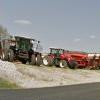Tractor: (45, 38, 100, 76)
